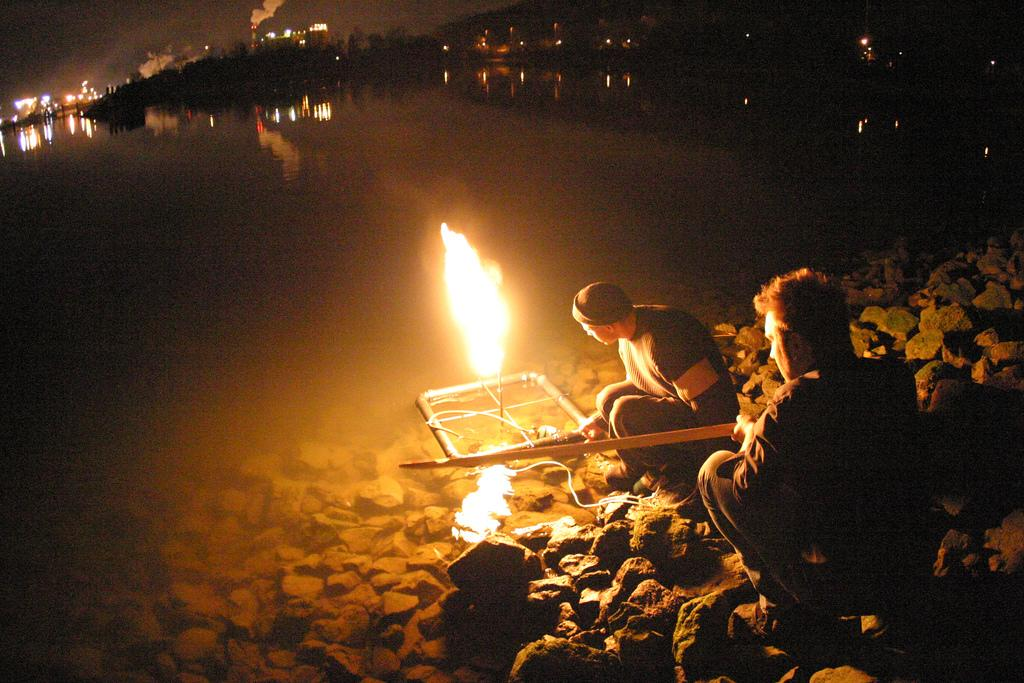fire: (435, 212, 522, 372), (462, 460, 517, 543)
